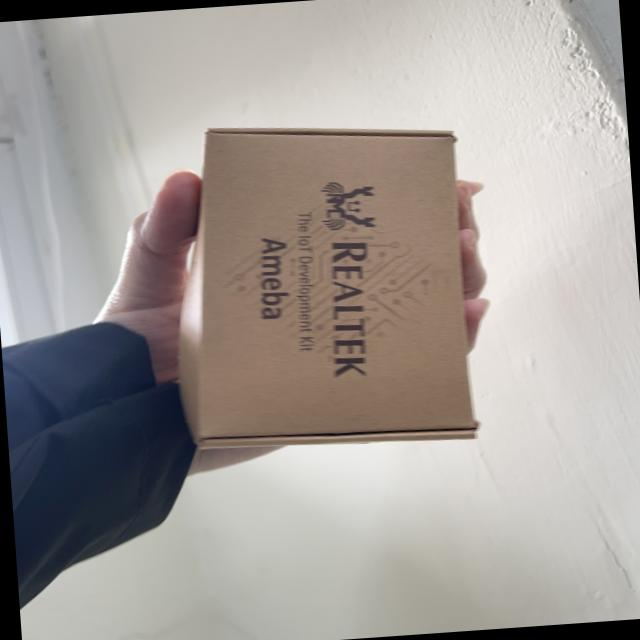box: (160, 94, 503, 478)
